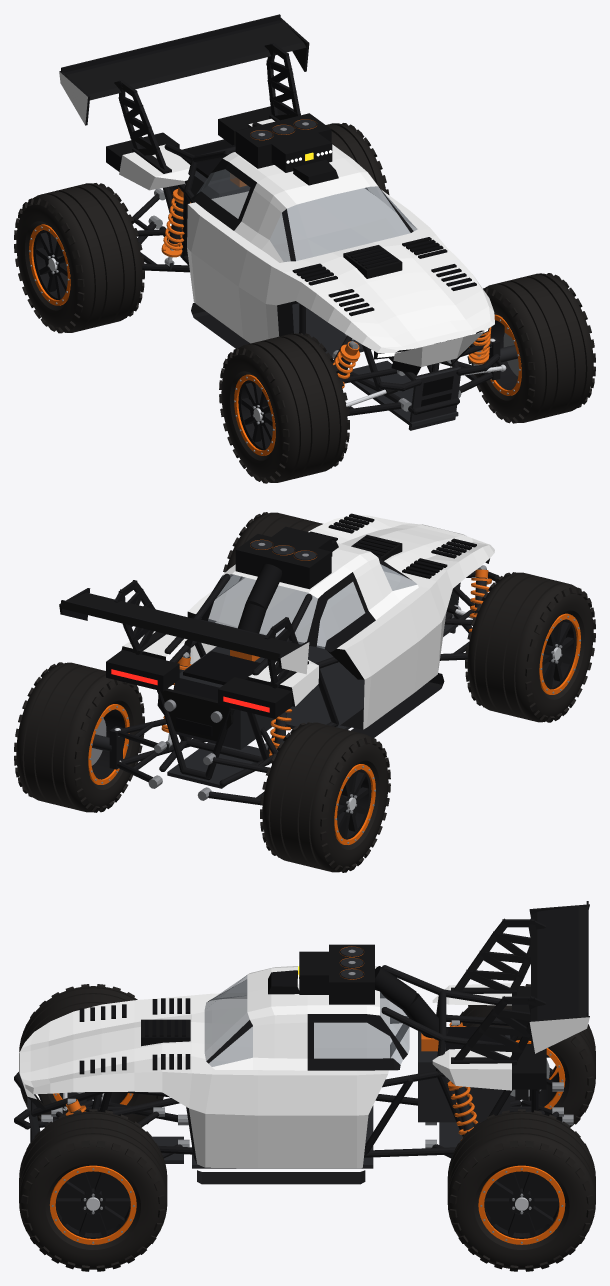
The model's file is buggy.glb.
3 renders of one model, top to bottom at view 1: azimuth 30°, elevation 25°; view 2: azimuth 150°, elevation 25°; view 3: azimuth 270°, elevation 25°, orthographic. The views are drawn at different scales.
Visible parts, largest first — view 1: body_hull, wheel.FR, wheel.RR, body_cabin, body_wing, wheel.FL, body_frame, body_roof, body_doors, body_tail, body_vents, body_nose (+5 smaller); view 2: wheel.FR, wheel.RR, body_hull, wheel.RL, body_cabin, body_frame, body_tail, body_wing, body_engine, body_doors, body_roof, body_vents (+7 smaller); view 3: body_hull, wheel.FL, wheel.RL, body_cabin, body_wing, body_frame, body_doors, body_engine, body_roof, body_tail, wheel.RR, wheel.FR (+4 smaller).
Part boxes in pixels (x1,y1,x2,y2): body_hull: (187,188,494,352); wheel.FR: (219,333,349,483); wheel.RR: (14,183,144,333); body_cabin: (191,144,418,262); body_wing: (59,14,309,173); wheel.FL: (467,273,595,423); body_frame: (159,122,499,430); body_roof: (235,113,338,185); body_doors: (187,248,293,343); body_tail: (106,106,285,190); body_vents: (292,237,476,316); body_nose: (374,328,489,375); wheel.FR: (465,572,595,722); wheel.RR: (260,722,390,872); body_hull: (187,515,494,679); wheel.RL: (14,662,144,812); body_cabin: (191,543,418,652); body_frame: (157,570,499,788); body_tail: (106,631,318,741); body_wing: (59,580,309,688); body_engine: (175,563,282,749); body_doors: (190,612,446,729); body_roof: (235,526,338,589); body_vents: (309,513,476,578); body_hull: (20,993,389,1115); wheel.FL: (19,1109,167,1271); wheel.RL: (447,1109,595,1271); body_cabin: (204,966,409,1070); body_wing: (451,901,589,1065); body_frame: (14,965,544,1168); body_doors: (186,1107,368,1168); body_engine: (375,966,510,1122); body_roof: (268,944,374,1004); body_tail: (432,983,546,1100); wheel.RR: (460,984,595,1127); wheel.FR: (19,984,163,1127).
Bounding box in the file's own units: 2.29 × 1.59 × 3.53.
